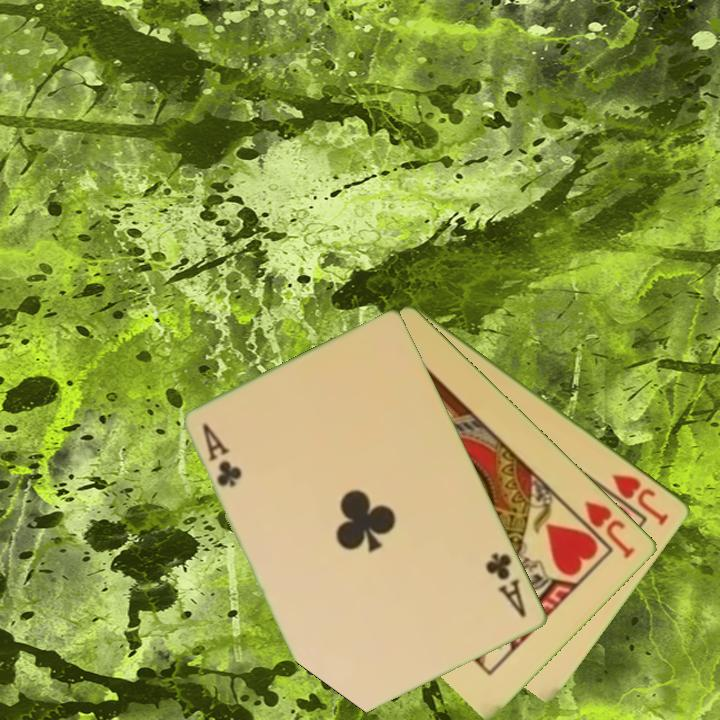Ac: (482, 549, 530, 621), (199, 419, 246, 490)
Jh: (568, 496, 639, 562), (608, 470, 672, 529)
